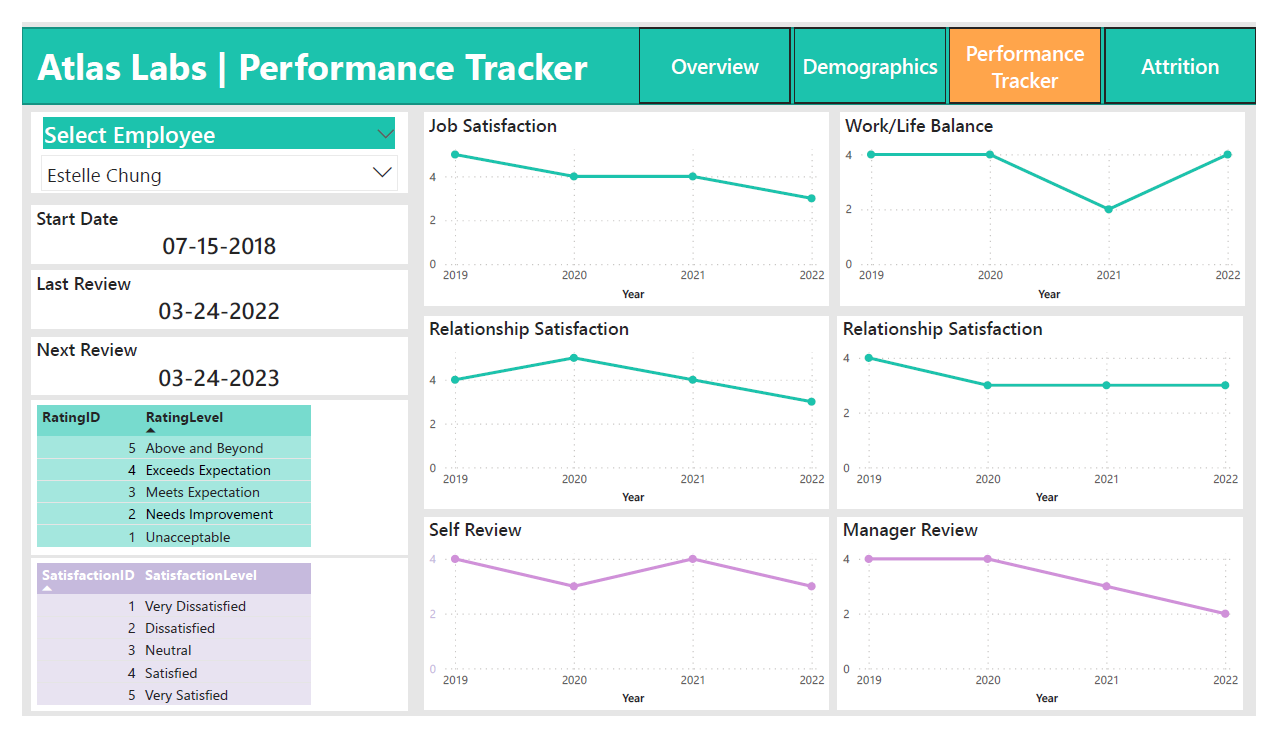

The dashboard page shown, as its layout file describes it:
{"tool":"powerbi","page":{"name":"Performance Tracker","canvas":[1280,720],"ordinal":2},"visuals":[{"type":"shape","title":"Atlas Labs | Performance Tracker","box":[0,5.7,1280,78.6],"z":0},{"type":"slicer","fields":{"Values":["Dim_Employee.FullName"]},"box":[10,94.3,390,82.9],"z":1000},{"type":"card","title":"Start Date","fields":{"Values":["Dim_Employee.HireDate"]},"box":[10,190,390,60],"z":2000},{"type":"card","title":"Last Review","fields":{"Values":["_Measures.Last_review"]},"box":[10,258.6,390,60],"z":3000},{"type":"card","title":"Next Review","fields":{"Values":["_Measures.Next_review"]},"box":[10,327.1,390,60],"z":4000},{"type":"lineChart","title":"Work/Life Balance","fields":{"Y":["_Measures.Work_life_balance_satisfaction"],"Category":["Calendar.Year"]},"box":[848.6,94.3,420,200],"z":5000},{"type":"lineChart","title":"Job Satisfaction","fields":{"Y":["_Measures.Job_satisfaction"],"Category":["Calendar.Year"]},"box":[417.1,94.3,420,200],"z":6000},{"type":"lineChart","title":"Relationship Satisfaction","fields":{"Y":["_Measures.Relationship_satisfaction"],"Category":["Calendar.Year"]},"box":[417.1,304.7,420,200],"z":7000},{"type":"lineChart","title":"Relationship Satisfaction","fields":{"Y":["_Measures.Environment_satisfaction"],"Category":["Calendar.Year"]},"box":[847.1,304.7,420,200],"z":8000},{"type":"lineChart","title":"Self Review","fields":{"Y":["_Measures.Self_review"],"Category":["Calendar.Year"]},"box":[417.1,514.3,420,200],"z":9000},{"type":"lineChart","title":"Manager Review","fields":{"Y":["_Measures.Manager_rating"],"Category":["Calendar.Year"]},"box":[847.1,514.3,420,200],"z":10000},{"type":"tableEx","fields":{"Values":["Dim_Rating_level.RatingID","Dim_Rating_level.RatingLevel"]},"box":[10,392.9,390,158.6],"z":11000},{"type":"tableEx","fields":{"Values":["Dim_Satisfied_level.SatisfactionID","Dim_Satisfied_level.SatisfactionLevel"]},"box":[10,557.1,390,157.1],"z":12000},{"type":"pageNavigator","box":[640,5.7,640,78.6],"z":13000}]}

Visuals, with their boxes on the page's 1280x720 design canvas (x1, y1, x2, y2). These are canvas units, not pixel positions in the 1275x737 screenshot, which may show the page scaled, cropped or inside an application window:
"Atlas Labs | Performance Tracker" shape: x1=0, y1=6, x2=1280, y2=84
slicer - Dim_Employee.FullName: x1=10, y1=94, x2=400, y2=177
"Start Date" card: x1=10, y1=190, x2=400, y2=250
"Last Review" card: x1=10, y1=259, x2=400, y2=319
"Next Review" card: x1=10, y1=327, x2=400, y2=387
"Work/Life Balance" lineChart: x1=849, y1=94, x2=1269, y2=294
"Job Satisfaction" lineChart: x1=417, y1=94, x2=837, y2=294
"Relationship Satisfaction" lineChart: x1=417, y1=305, x2=837, y2=505
"Relationship Satisfaction" lineChart: x1=847, y1=305, x2=1267, y2=505
"Self Review" lineChart: x1=417, y1=514, x2=837, y2=714
"Manager Review" lineChart: x1=847, y1=514, x2=1267, y2=714
tableEx - Dim_Rating_level.RatingID x Dim_Rating_level.RatingLevel: x1=10, y1=393, x2=400, y2=552
tableEx - Dim_Satisfied_level.SatisfactionID x Dim_Satisfied_level.SatisfactionLevel: x1=10, y1=557, x2=400, y2=714
pageNavigator: x1=640, y1=6, x2=1280, y2=84
